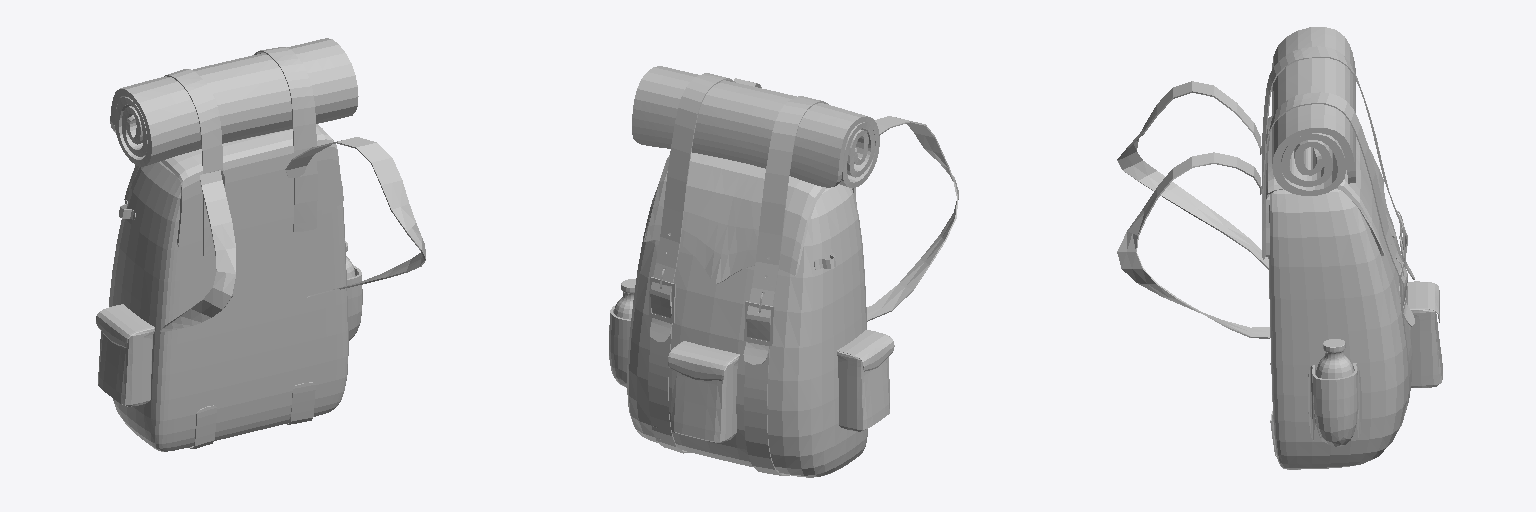
Rendered from backpack.obj.
3 renders of one model, left to right at view 1: azimuth 30°, elevation 25°; view 2: azimuth 150°, elevation 25°; view 3: azimuth 270°, elevation 25°, orthographic.
Parts seen in each view (by area): view 1: Cube.003; view 2: Cube.003; view 3: Cube.003.
Part boxes in pixels (left/top/right/bottom): Cube.003: left=96, top=38, right=425, bottom=451; Cube.003: left=609, top=66, right=958, bottom=477; Cube.003: left=1117, top=27, right=1442, bottom=469.
Bounding box in the file's own units: 0.3461 × 0.4594 × 0.378.